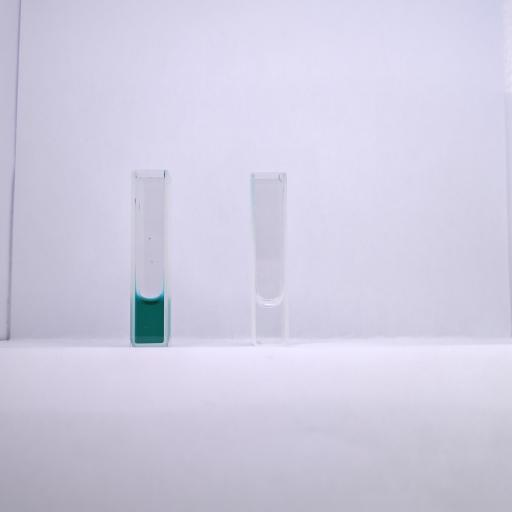cuvette: (128, 168, 170, 351), (250, 170, 289, 350)
liquid: (135, 297, 164, 343), (256, 299, 284, 343)
